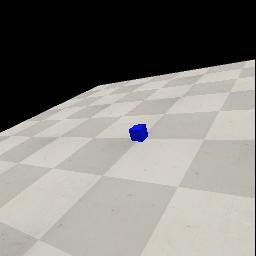box: (129, 124, 148, 142)
